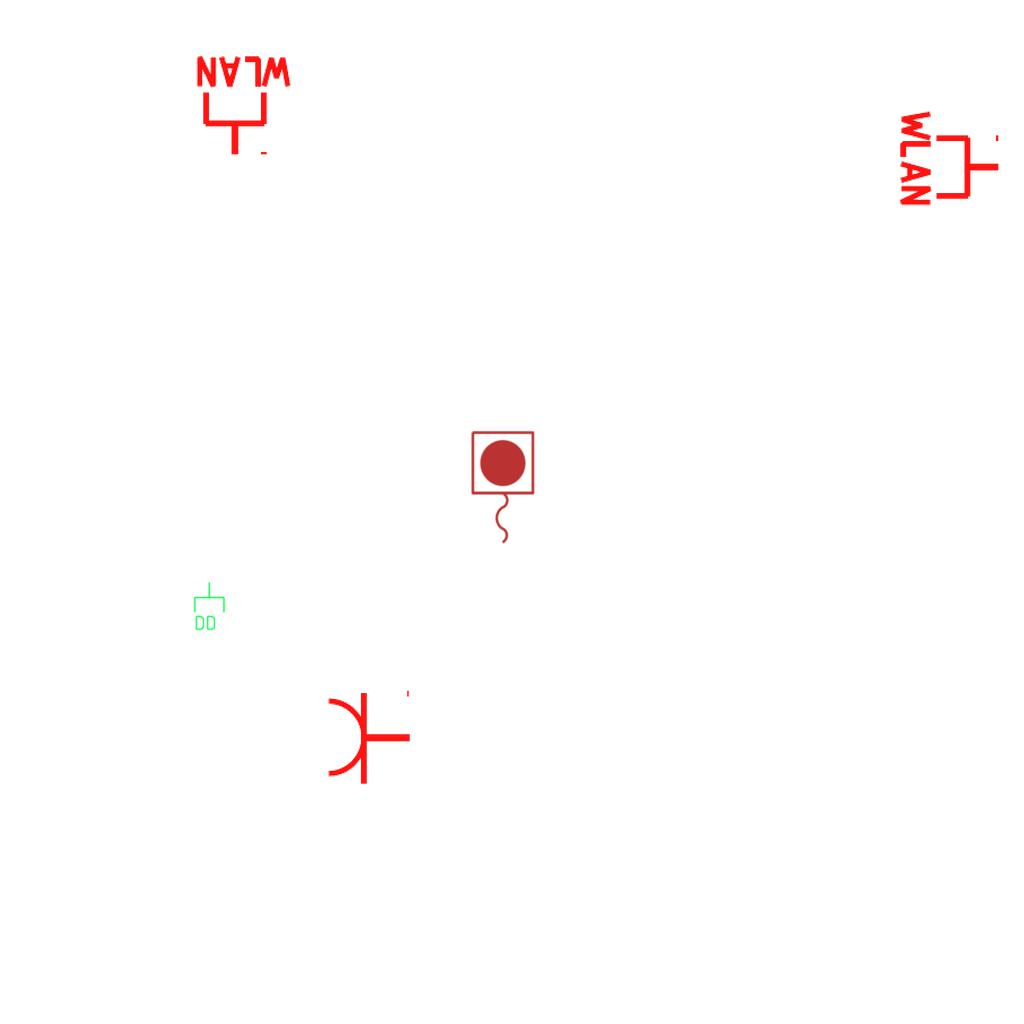Datenanschluss_zweifach: (192, 581, 226, 632)
Schukosteckdose_einfach: (325, 686, 412, 786)
WLAN: (192, 54, 296, 159), (898, 106, 1003, 210)
Zugtaster: (466, 427, 538, 549)
